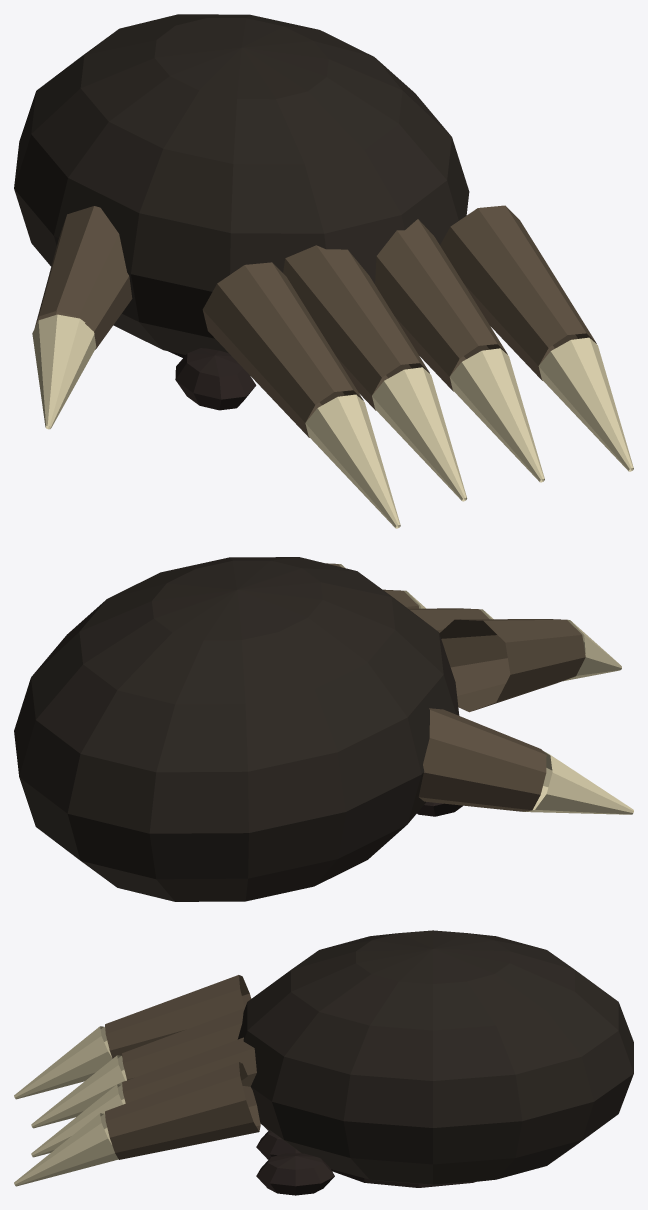
The model's file is MagicForestClaw.obj.
3 renders of one model, top to bottom at view 1: azimuth 30°, elevation 25°; view 2: azimuth 150°, elevation 25°; view 3: azimuth 270°, elevation 25°, orthographic. The views are drawn at different scales.
Parts seen in each view (by area): view 1: Palm, Digit0, Digit3, Digit2, Digit1, ThumbDigit, Claw0, Claw1, Claw3, Claw2, ThumbClaw, ToePad0; view 2: Palm, Digit0, ThumbDigit, ThumbClaw, Claw0, Digit1; view 3: Palm, Digit3, Digit0, Digit1, Digit2, Claw3, Claw0, ToePad3, Claw1, Claw2, ToePad2, PadCenter.
Boxes of the visible parts, box(x1,y1,x2,y2) form: Palm: box(14, 14, 469, 354); Digit0: box(202, 262, 363, 437); Digit3: box(440, 205, 596, 380); Digit2: box(375, 219, 507, 391); Digit1: box(283, 245, 429, 410); ThumbDigit: box(34, 206, 132, 349); Claw0: box(305, 394, 400, 528); Claw1: box(372, 367, 467, 501); Claw3: box(538, 337, 633, 471); Claw2: box(449, 348, 544, 482); ThumbClaw: box(32, 314, 96, 429); ToePad0: box(175, 348, 256, 410); Palm: box(14, 557, 459, 901); Digit0: box(439, 619, 585, 712); ThumbDigit: box(418, 708, 546, 811); ThumbClaw: box(523, 751, 633, 814); Claw0: box(563, 619, 621, 681); Digit1: box(408, 608, 489, 632); Palm: box(237, 930, 633, 1184); Digit3: box(105, 1062, 260, 1159); Digit0: box(105, 975, 251, 1058); Digit1: box(122, 1008, 244, 1080); Digit2: box(122, 1037, 256, 1103); Claw3: box(14, 1113, 118, 1186); Claw0: box(14, 1026, 112, 1099); ToePad3: box(256, 1153, 334, 1195); Claw1: box(31, 1055, 126, 1128); Claw2: box(31, 1084, 125, 1157); ToePad2: box(256, 1130, 300, 1159); PadCenter: box(331, 1169, 474, 1187).
Size of the model in its own units: 1.52 by 0.8484 by 2.19.
